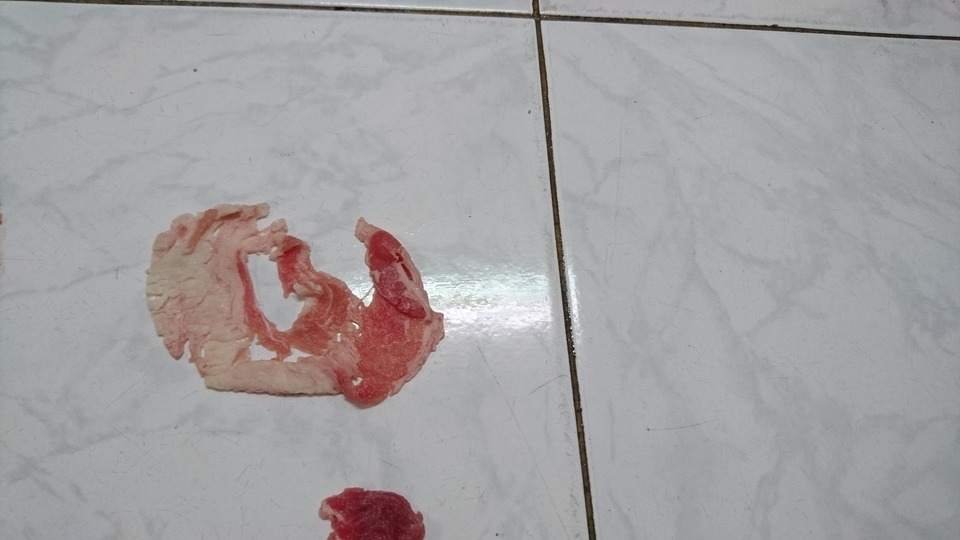restructured meat: (143, 190, 471, 412)
